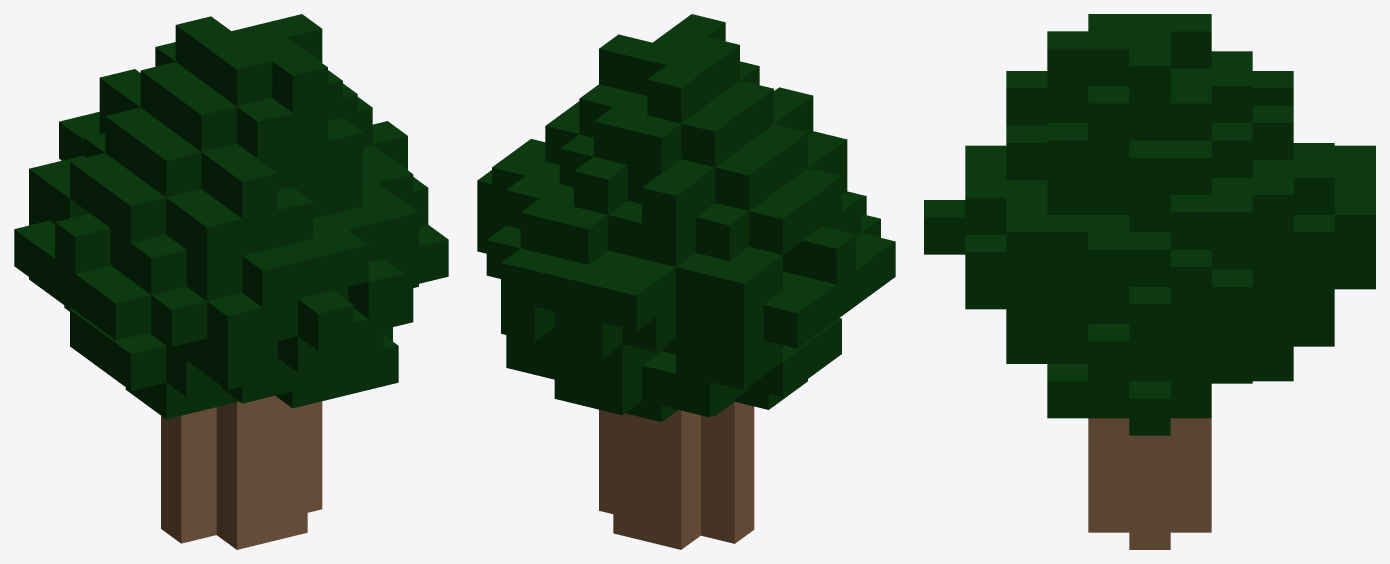
Rendered from Arbol2.obj.
3 views of the same model, side by side, from view 1: azimuth 30°, elevation 25°; view 2: azimuth 150°, elevation 25°; view 3: azimuth 270°, elevation 25° (orthographic). The views are drawn at different scales.
Bounding box in the file's own units: 10 × 13 × 11.
1 material, 1 textured.
